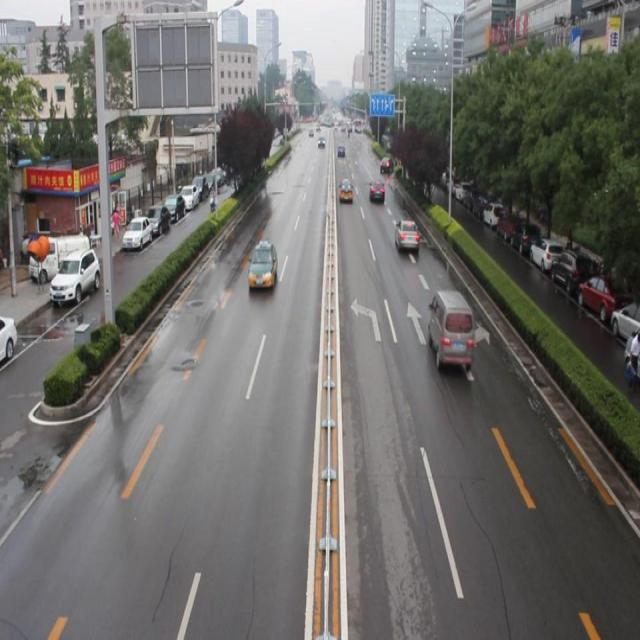car: (246, 238, 277, 288), (394, 217, 418, 251), (367, 178, 384, 202), (338, 177, 353, 203), (378, 155, 392, 177)
truck: (426, 288, 474, 371)
